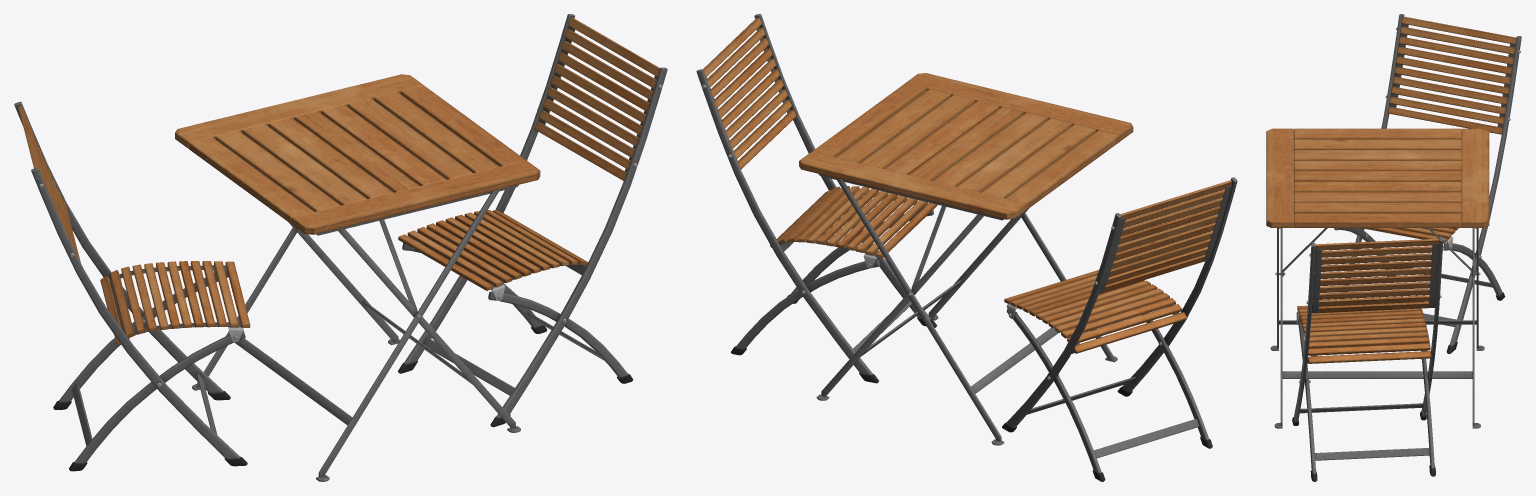
The model's file is dom-terrace.glb.
The picture shows the model from 3 angles, left to right: view 1: azimuth 30°, elevation 25°; view 2: azimuth 150°, elevation 25°; view 3: azimuth 270°, elevation 25°; orthographic projection. The views are drawn at different scales.
Visible parts, largest first — view 1: outdoor_table_chair_set_01_table, outdoor_table_chair_set_01_chair_01, outdoor_table_chair_set_01_chair_02; view 2: outdoor_table_chair_set_01_table, outdoor_table_chair_set_01_chair_02, outdoor_table_chair_set_01_chair_01; view 3: outdoor_table_chair_set_01_table, outdoor_table_chair_set_01_chair_01, outdoor_table_chair_set_01_chair_02.
Part boxes in pixels (box(x1,y1,x2,y2)): outdoor_table_chair_set_01_table: box(175, 74, 540, 481); outdoor_table_chair_set_01_chair_01: box(398, 14, 667, 427); outdoor_table_chair_set_01_chair_02: box(14, 101, 250, 471); outdoor_table_chair_set_01_table: box(799, 73, 1133, 445); outdoor_table_chair_set_01_chair_02: box(1002, 177, 1237, 481); outdoor_table_chair_set_01_chair_01: box(696, 14, 937, 383); outdoor_table_chair_set_01_table: box(1266, 128, 1489, 428); outdoor_table_chair_set_01_chair_01: box(1292, 236, 1444, 481); outdoor_table_chair_set_01_chair_02: box(1334, 14, 1521, 353).
Bounding box in the file's own units: 1.71 × 0.8586 × 0.7925.
Materials: 2 (2 with a texture image).
